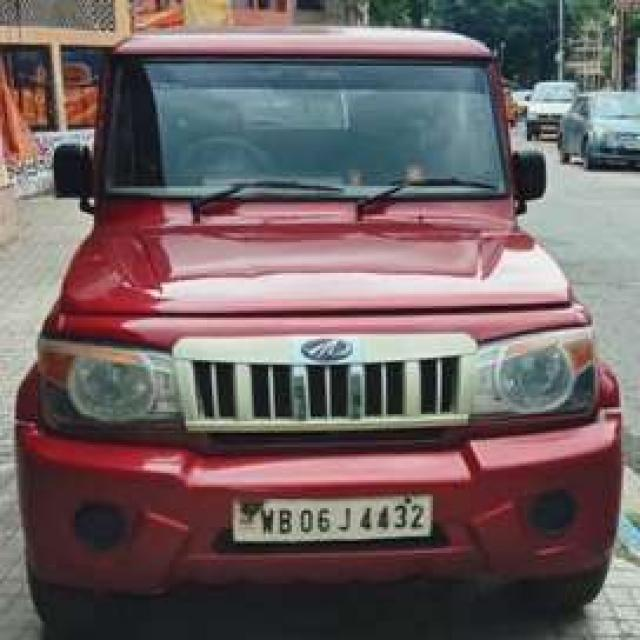Plate: (229, 493, 432, 537)
